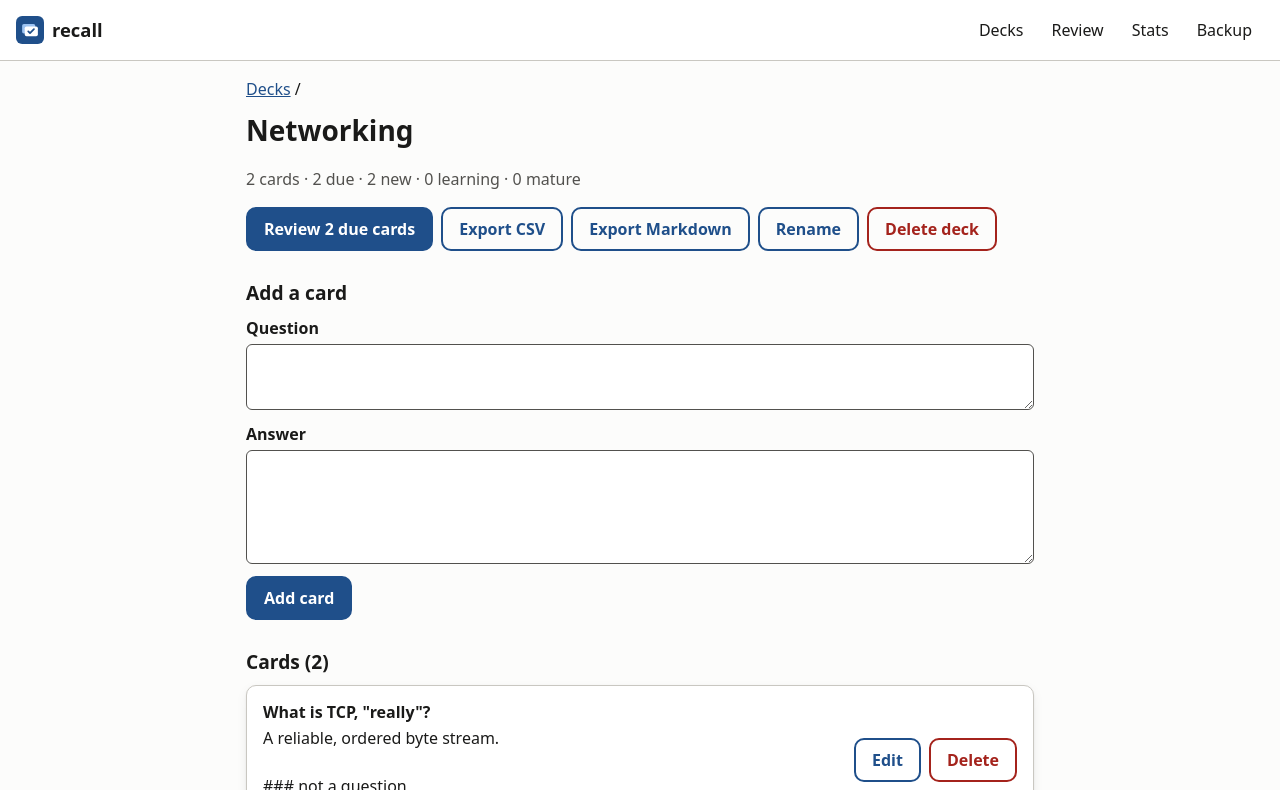
Scenario: DeckView › keeps the rename form open with the error when saving fails
Expected: the heading "Networking" is shown, [246, 111, 414, 149]
Click the button "Rename" at [808, 229], box [758, 207, 859, 251]
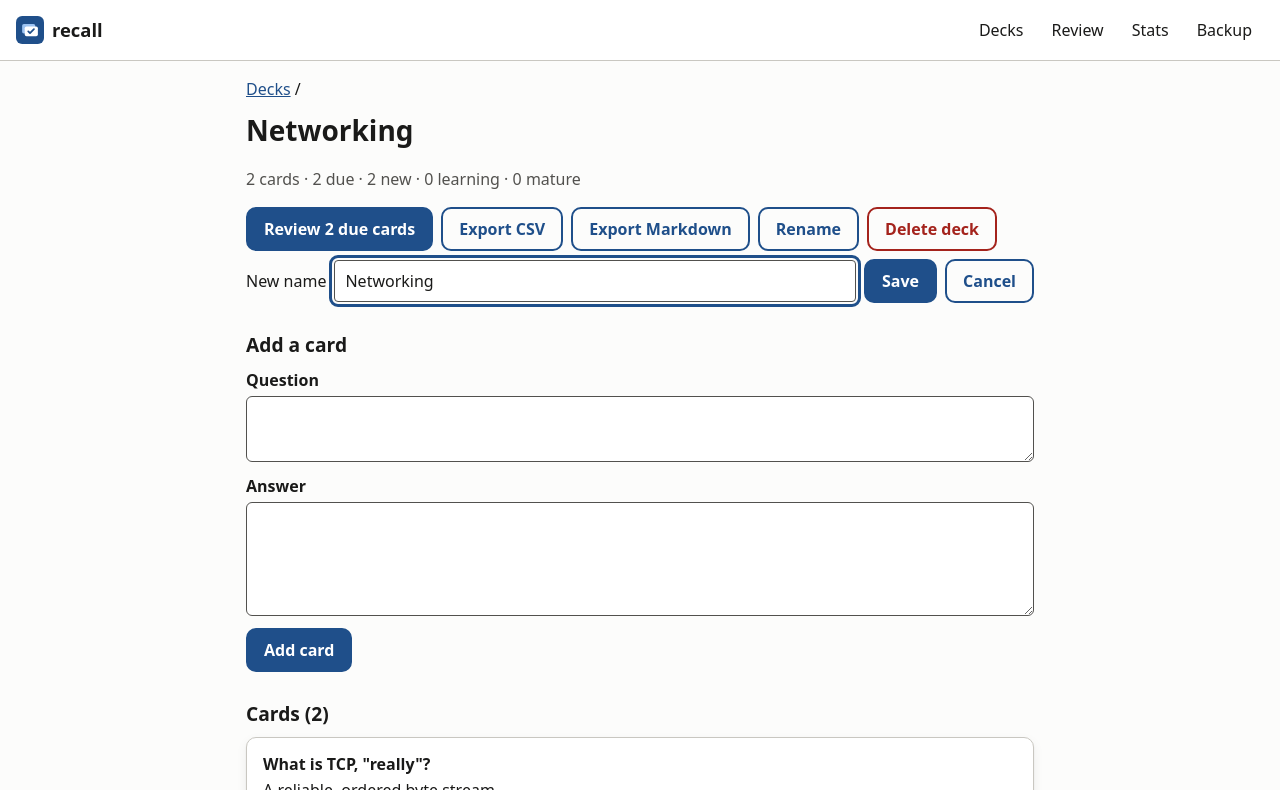
Type " 2" into the field labelled "New name" at [595, 281], box [334, 260, 856, 302]
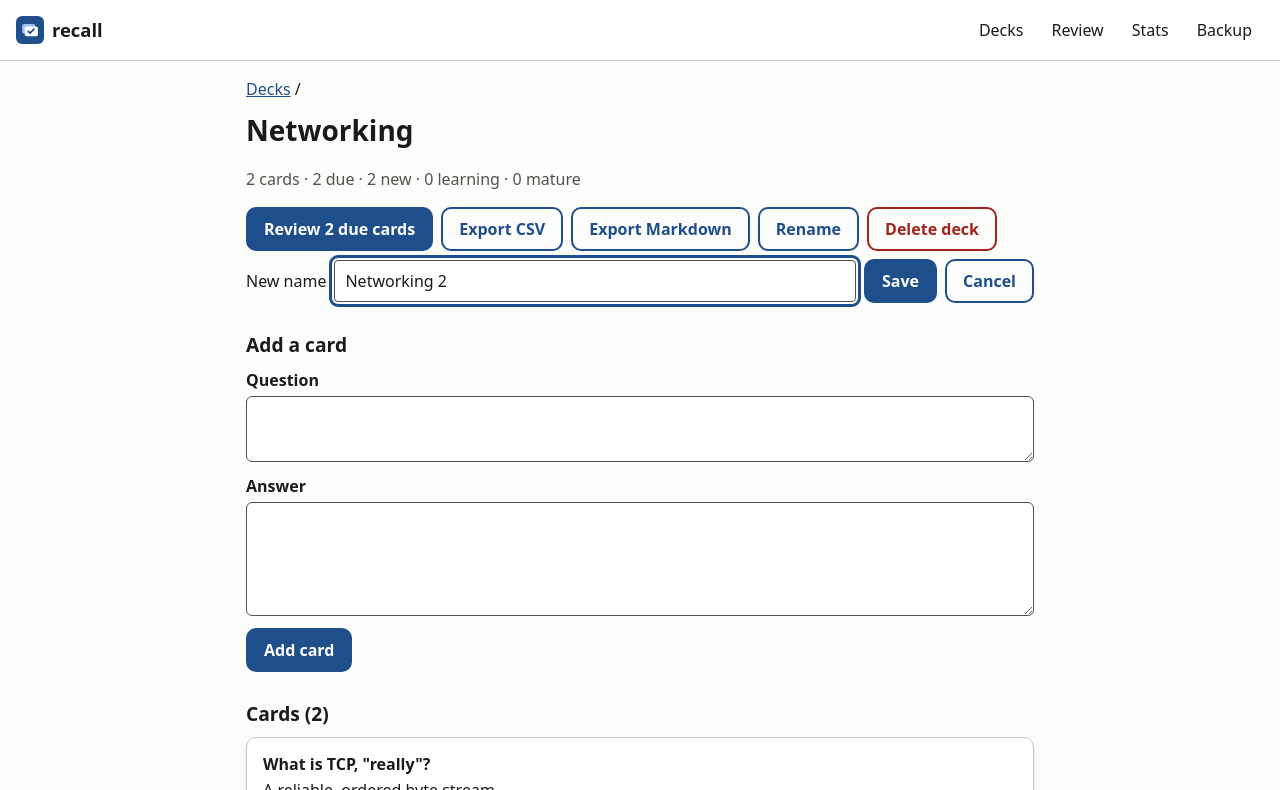
Click the button "Save" at [900, 281], box [864, 259, 937, 303]
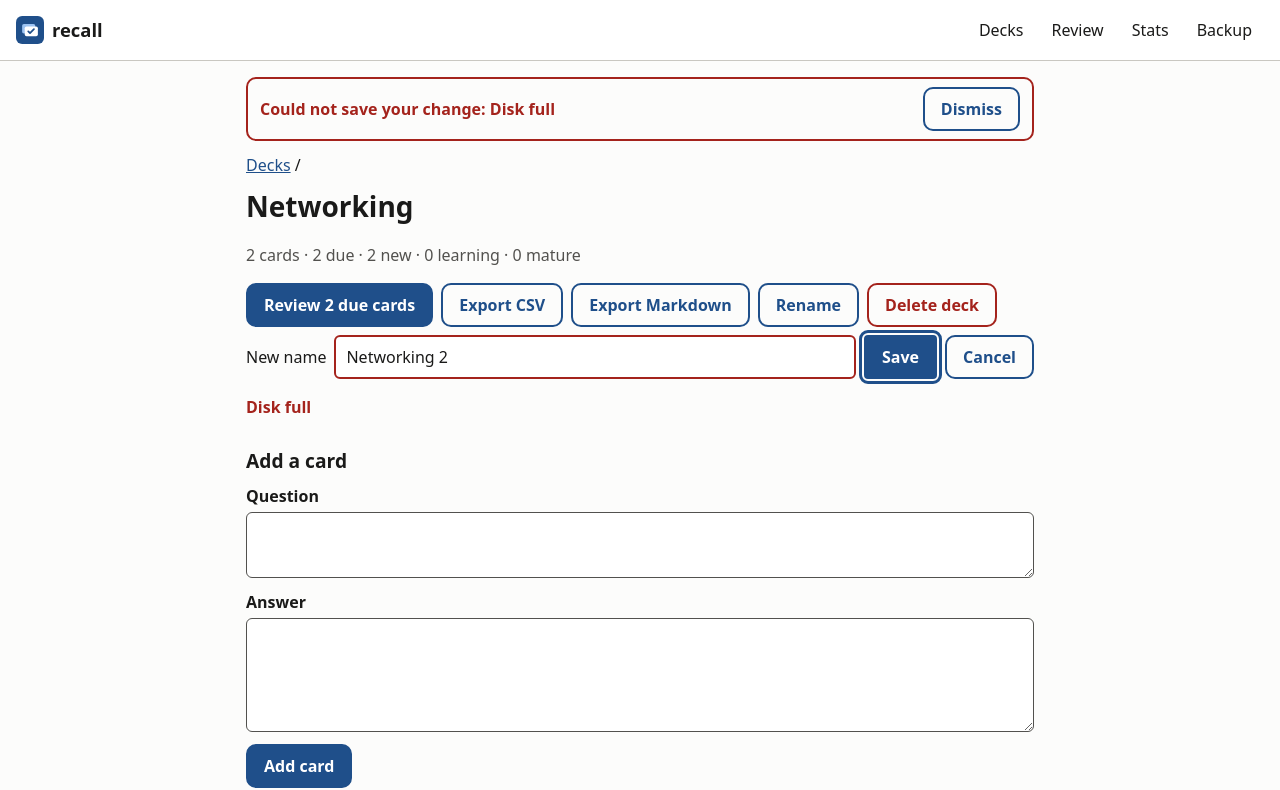
Result: the field labelled "New name" holds "Networking 2" at [334, 335, 856, 379]
Result: the text "Disk full" is shown at [246, 396, 311, 418]
Result: the text "Could not save your change: Disk full" is shown at [260, 97, 555, 121]
